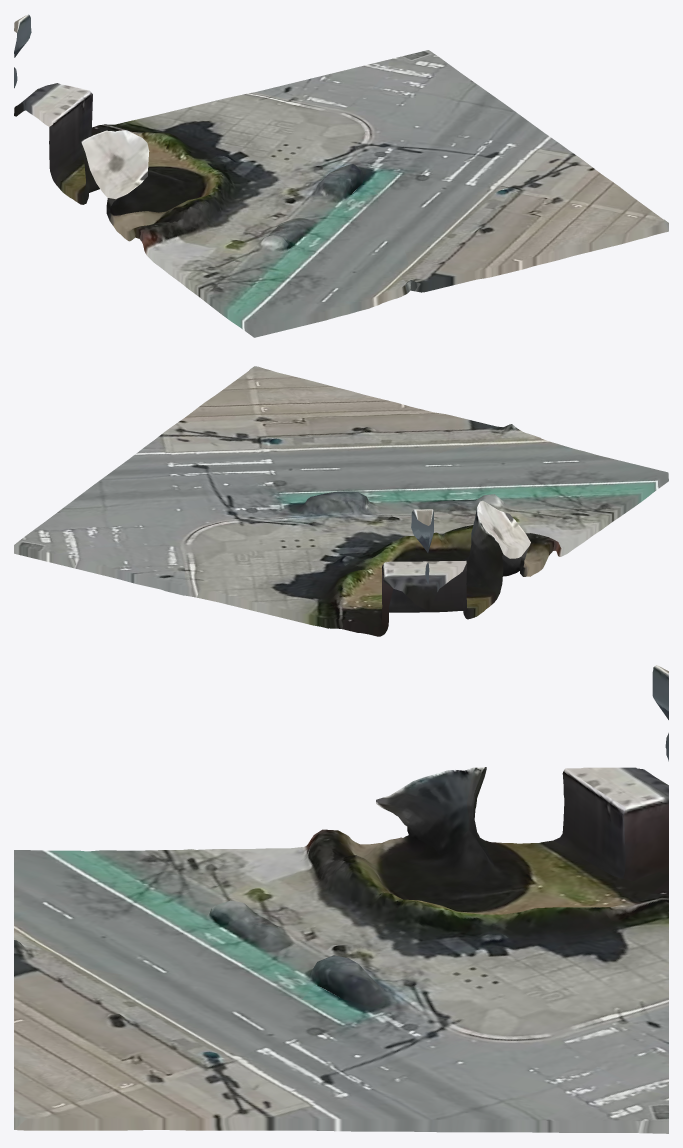
The model's file is z20-167774-405201-h0-yup-uvflip-v3-world.glb.
3 views of the same model, one above another, from view 1: azimuth 30°, elevation 25°; view 2: azimuth 150°, elevation 25°; view 3: azimuth 270°, elevation 25° (orthographic). The views are drawn at different scales.
Bounding box in the file's own units: 30.2 × 10.12 × 30.32.
Materials: 1 (1 with a texture image).
